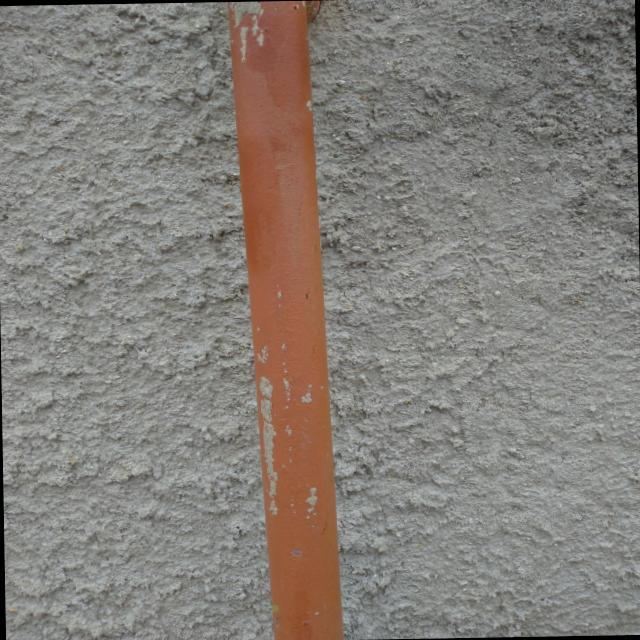gas: (228, 0, 343, 640)
